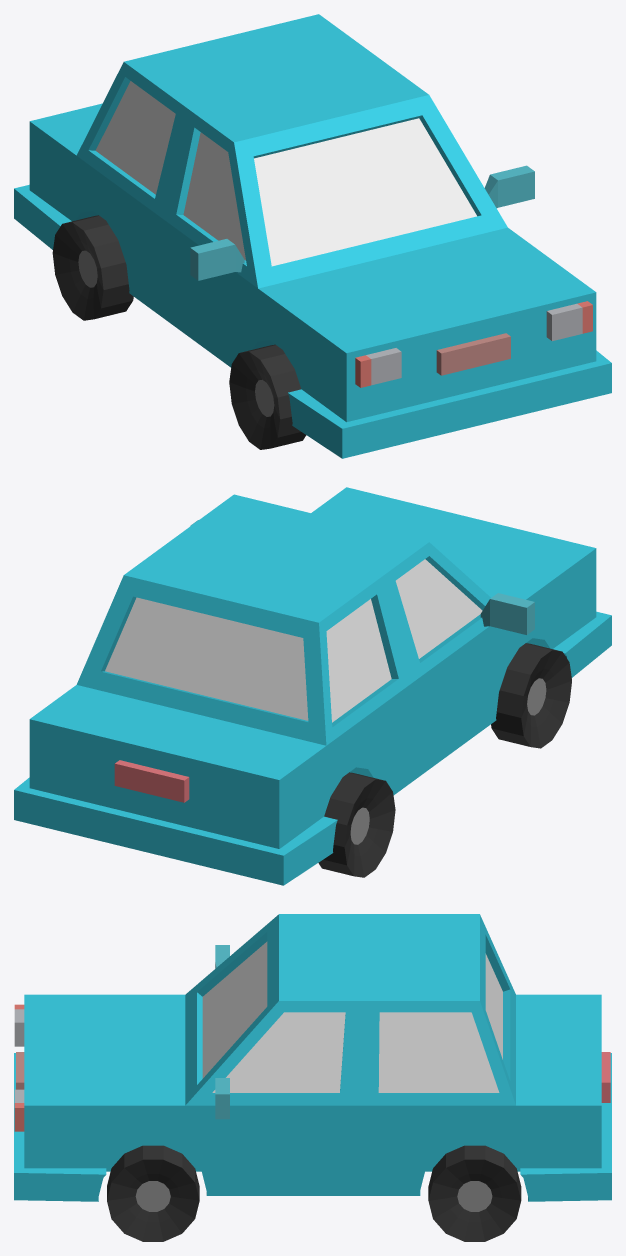
File: car.fbx
3 views of the same model, one above another, from view 1: azimuth 30°, elevation 25°; view 2: azimuth 150°, elevation 25°; view 3: azimuth 270°, elevation 25° (orthographic). The views are drawn at different scales.
Visible parts, largest first — view 1: Cube; view 2: Cube; view 3: Cube.
Part boxes in pixels (x1,y1,x2,y2): Cube: [14, 14, 611, 458]; Cube: [14, 487, 611, 885]; Cube: [14, 914, 611, 1241].
Size of the model in its own units: 269 by 184 by 455.
